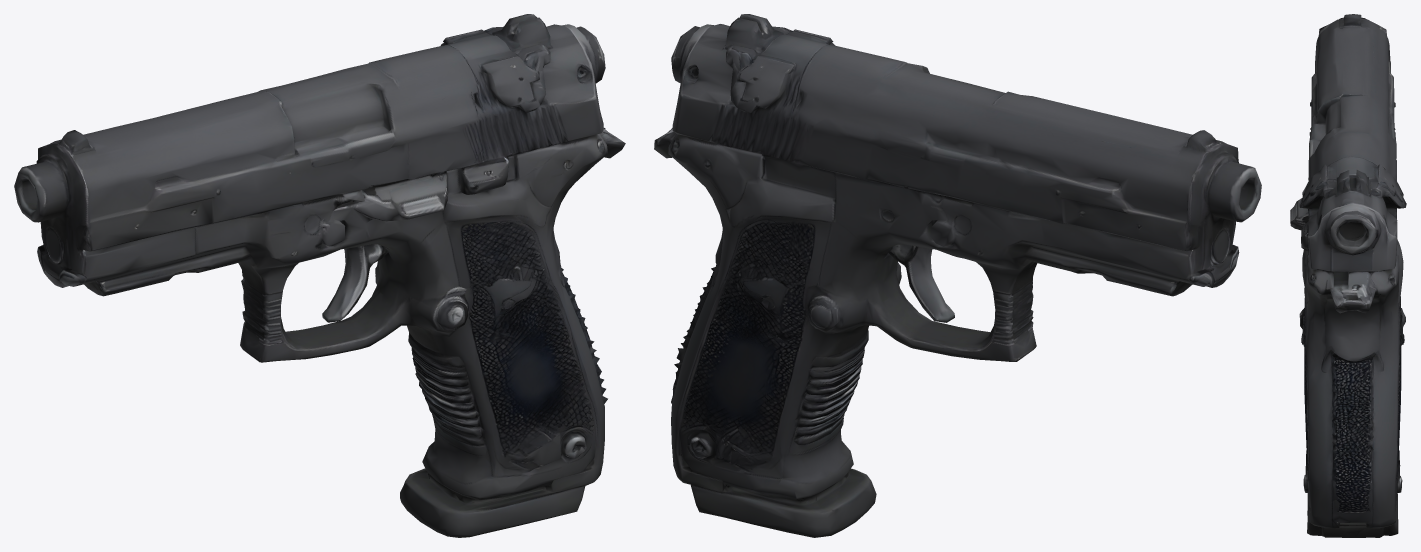
The model's file is pistol.glb.
3 views of the same model, side by side, from view 1: azimuth 30°, elevation 25°; view 2: azimuth 150°, elevation 25°; view 3: azimuth 270°, elevation 25° (orthographic). The views are drawn at different scales.
Parts seen in each view (by area): view 1: tripo_node_608f1094-b2c3-424f-b930-14630d2e67a9; view 2: tripo_node_608f1094-b2c3-424f-b930-14630d2e67a9; view 3: tripo_node_608f1094-b2c3-424f-b930-14630d2e67a9.
Boxes of the visible parts, left/top/right/bottom form: tripo_node_608f1094-b2c3-424f-b930-14630d2e67a9: left=14, top=14, right=625, bottom=537; tripo_node_608f1094-b2c3-424f-b930-14630d2e67a9: left=654, top=14, right=1261, bottom=537; tripo_node_608f1094-b2c3-424f-b930-14630d2e67a9: left=1290, top=14, right=1406, bottom=537.
Size of the model in its own units: 1 by 0.7825 by 0.2313.
1 material, 1 textured.
